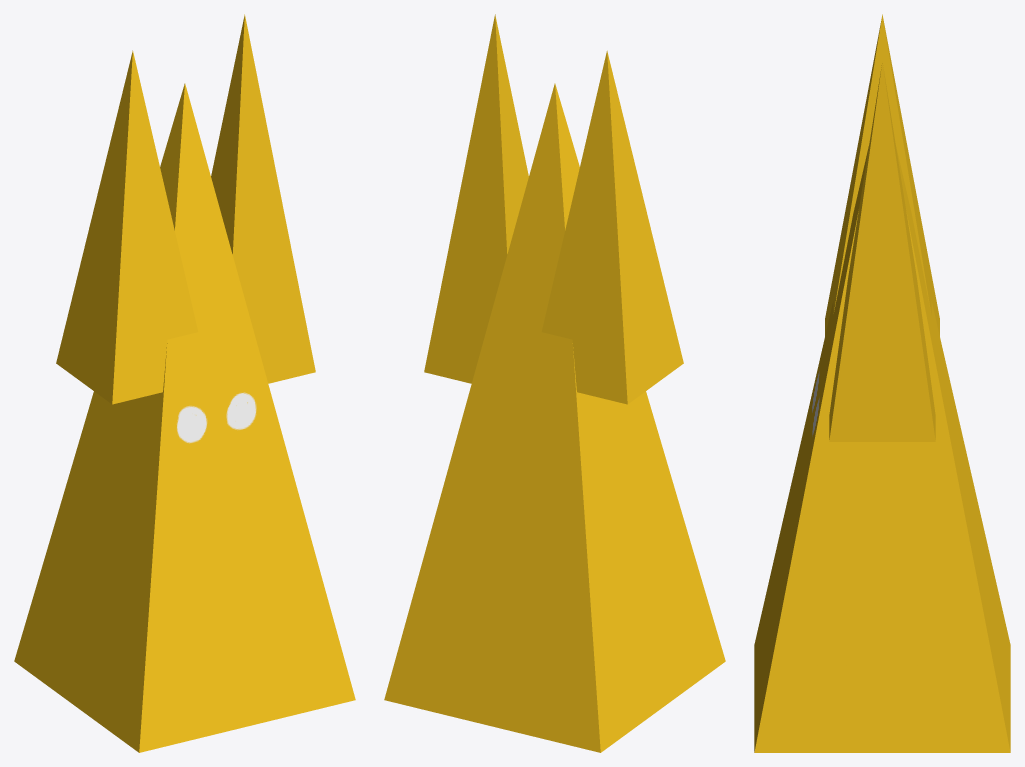
File: boss.glb
3 views of the same model, side by side, from view 1: azimuth 30°, elevation 25°; view 2: azimuth 150°, elevation 25°; view 3: azimuth 270°, elevation 25° (orthographic). The views are drawn at different scales.
Visible parts, largest first — view 1: mesh_id27, mesh_id31, mesh_id29; view 2: mesh_id27, mesh_id31, mesh_id29; view 3: mesh_id27, mesh_id29, mesh_id31.
Part boxes in pixels (left/top/right/bottom): mesh_id27: left=14, top=83, right=355, bottom=752; mesh_id31: left=56, top=50, right=198, bottom=404; mesh_id29: left=211, top=14, right=315, bottom=383; mesh_id27: left=384, top=83, right=725, bottom=752; mesh_id31: left=541, top=50, right=683, bottom=404; mesh_id29: left=424, top=14, right=528, bottom=383; mesh_id27: left=754, top=146, right=1010, bottom=752; mesh_id29: left=829, top=61, right=935, bottom=441; mesh_id31: left=825, top=14, right=939, bottom=335.
Bounding box in the file's own units: 0.163 × 0.4691 × 0.163.
Materials: 3 (3 with a texture image).
